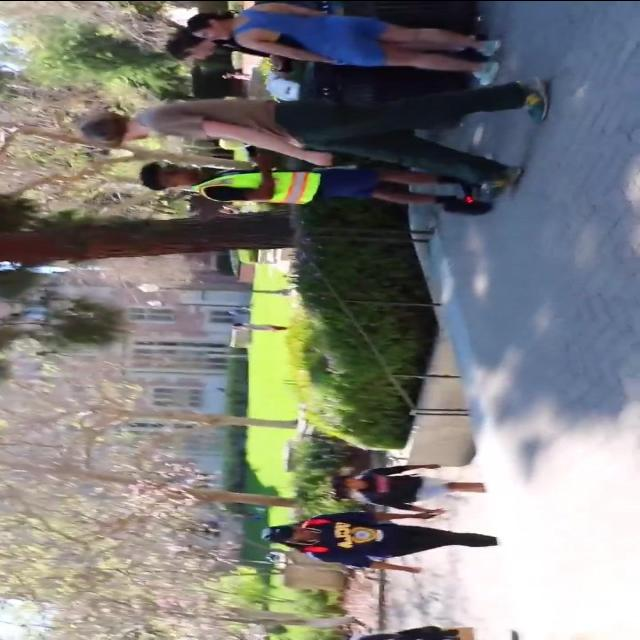jacket: (192, 161, 318, 207)
